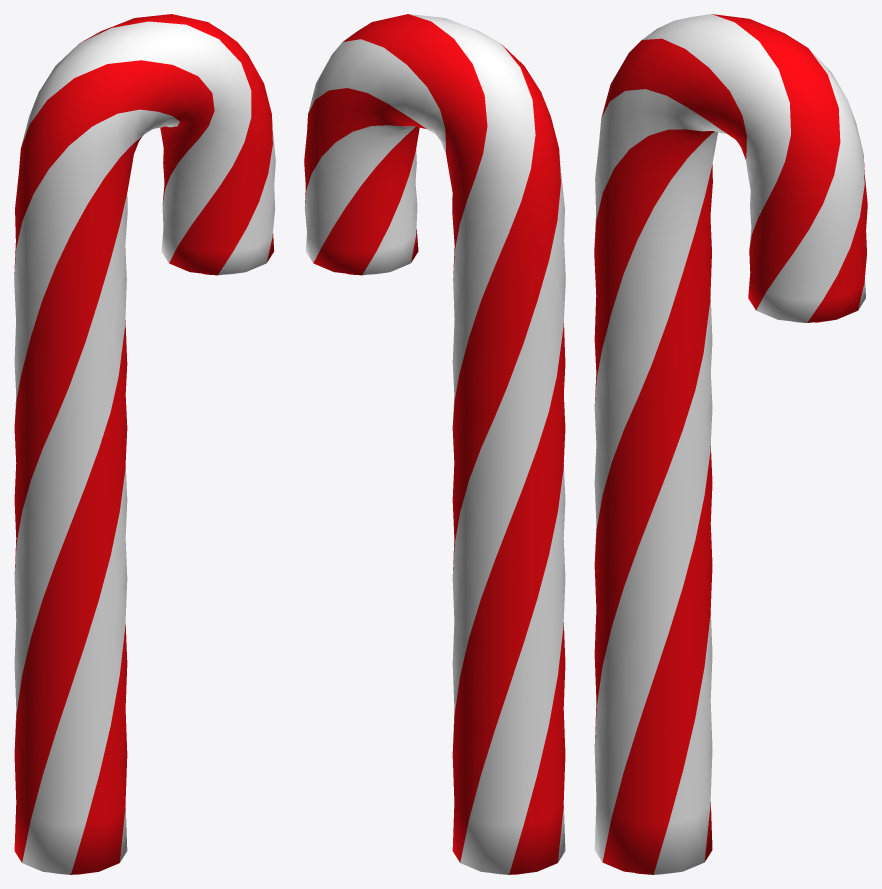
File: CandyCane.fbx
3 renders of one model, left to right at view 1: azimuth 30°, elevation 25°; view 2: azimuth 150°, elevation 25°; view 3: azimuth 330°, elevation 25°, orthographic. The views are drawn at different scales.
Visible parts, largest first — view 1: CandyCane; view 2: CandyCane; view 3: CandyCane.
Part boxes in pixels (<box>): CandyCane: <box>14,14,275,874</box>; CandyCane: <box>304,14,565,874</box>; CandyCane: <box>594,14,867,874</box>.
Size of the model in its own units: 0.9794 by 3.11 by 0.3878.
Materials: 1 (1 with a texture image).
